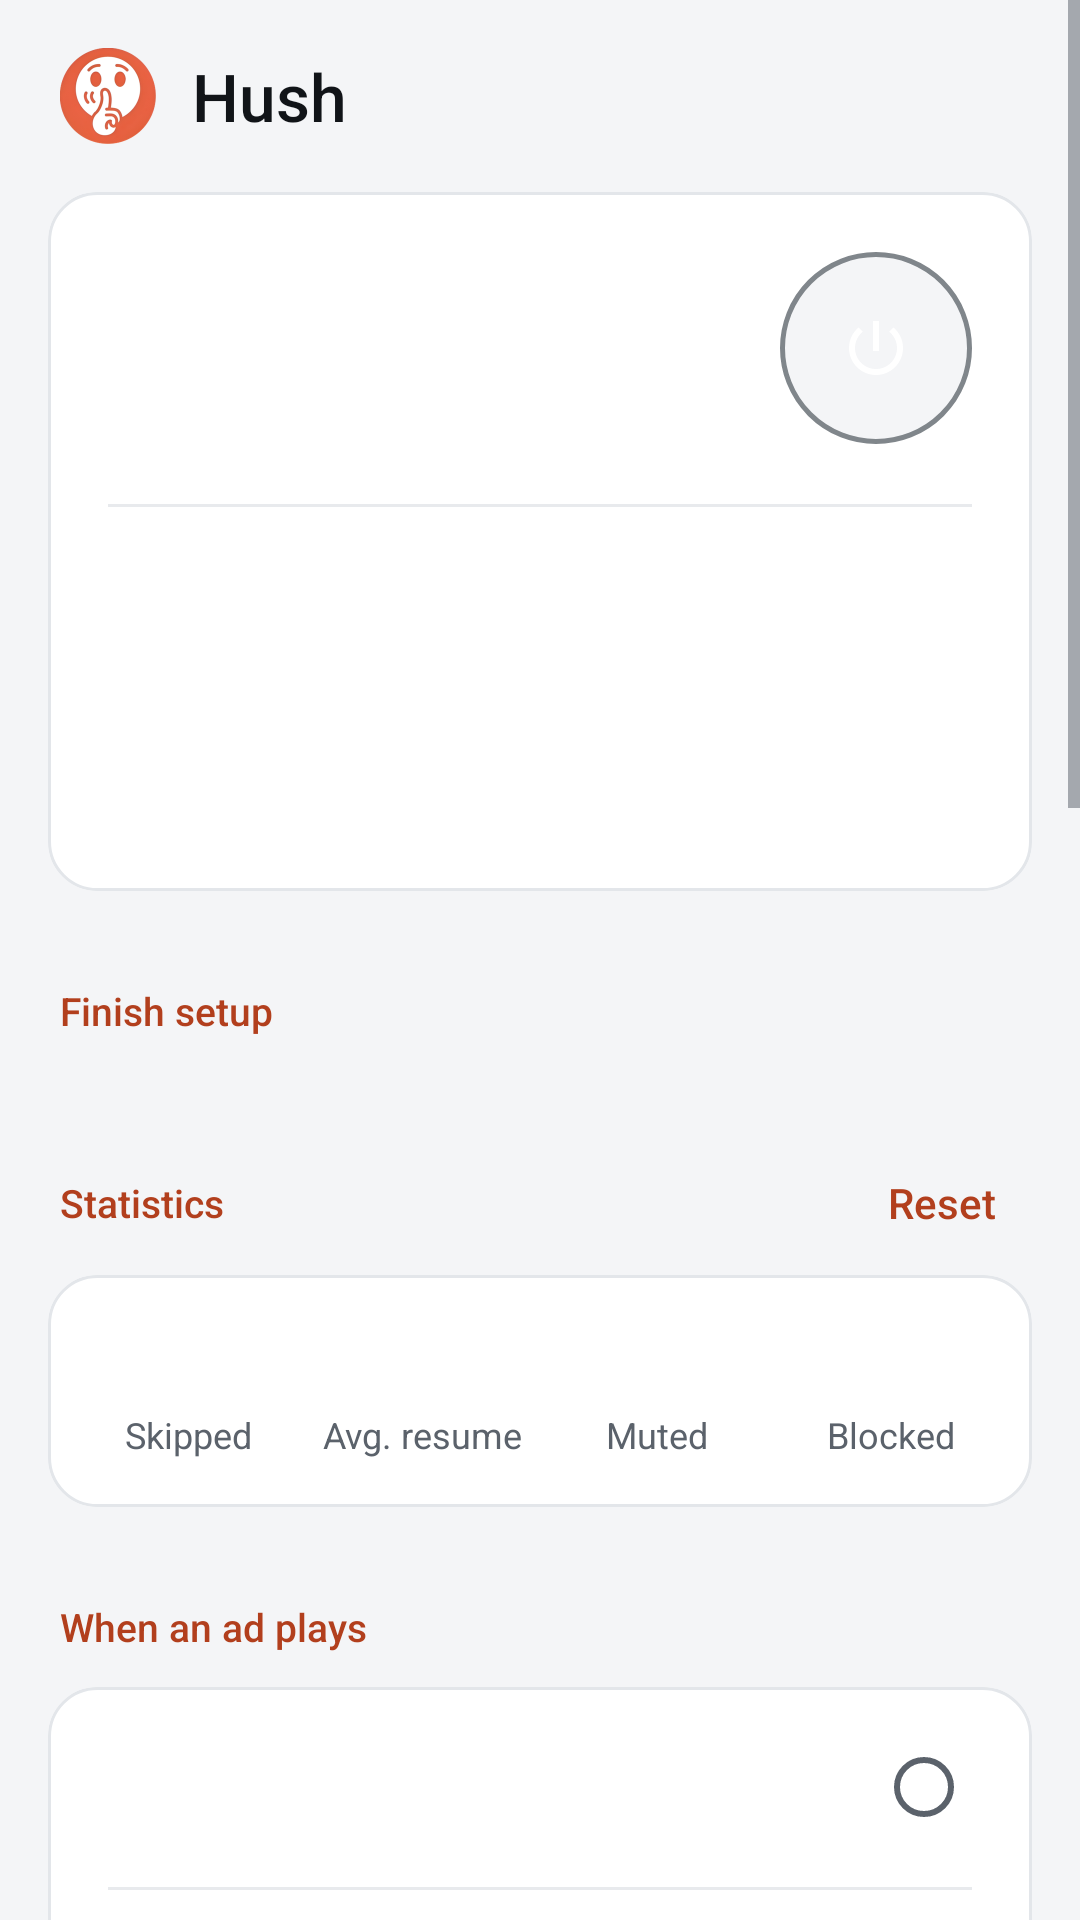

Named icons in this screenshot (1080 × 1920) and their centers, [x,y]:
Turn Hush on: [876,348]
